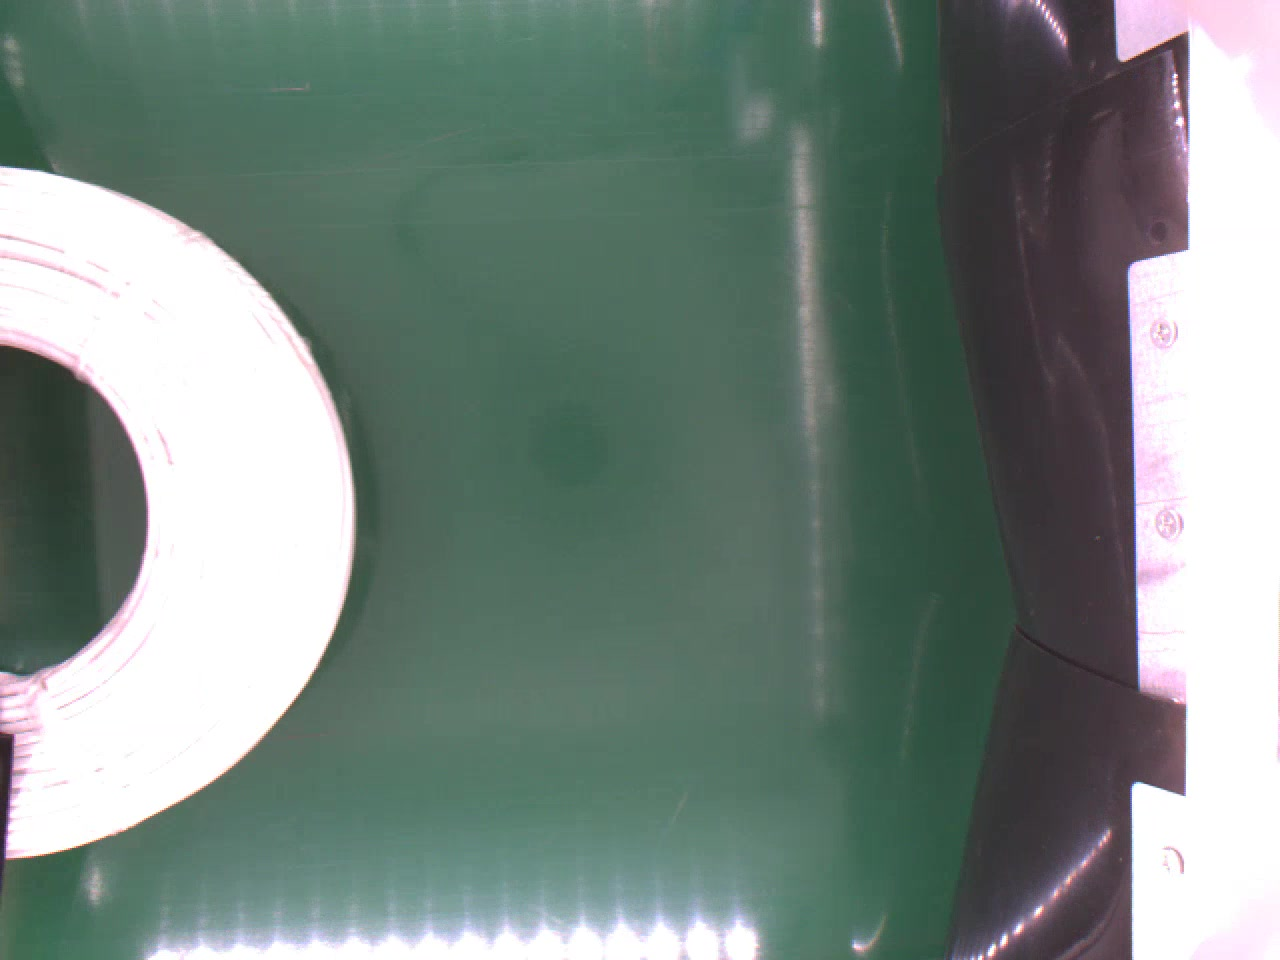white: (0, 166, 351, 856)
